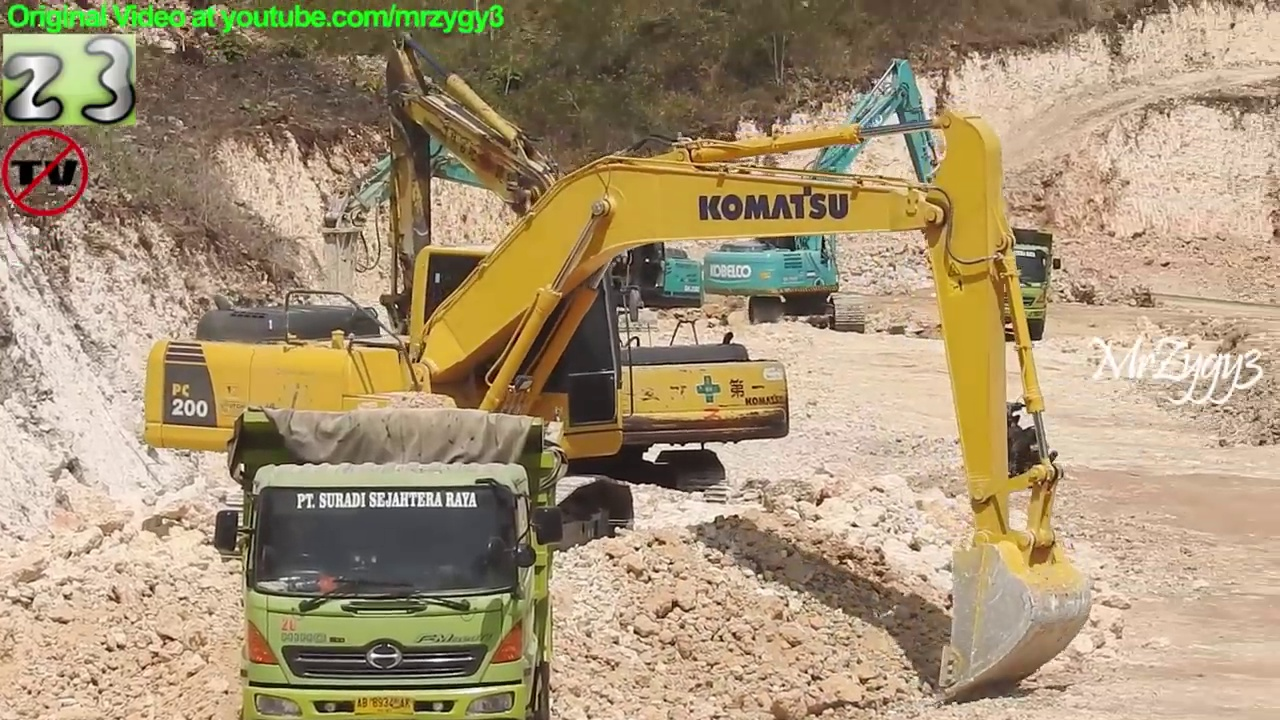excavator: (131, 103, 1099, 710), (361, 24, 800, 524), (316, 120, 713, 348), (700, 52, 991, 340)
truck: (207, 400, 575, 720), (940, 223, 1068, 345)
